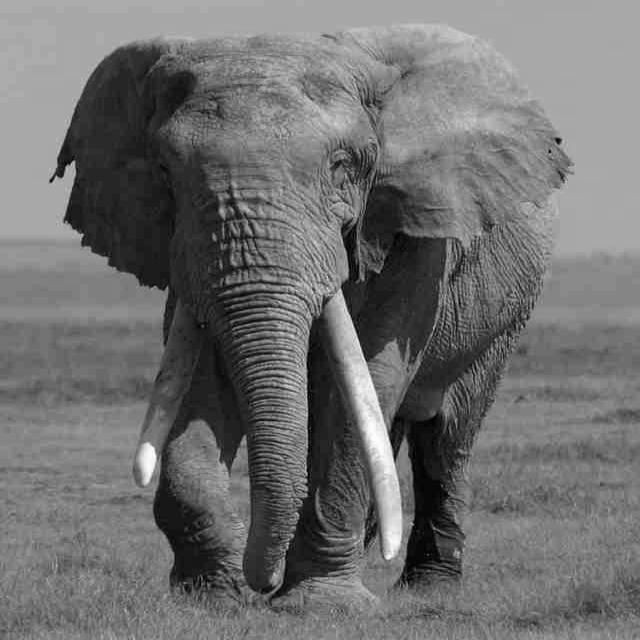Elephant: (48, 23, 575, 613)
